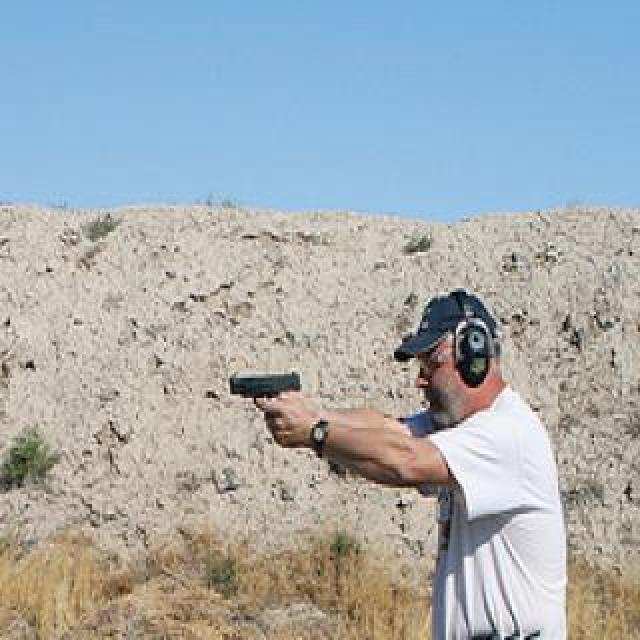Guns: (219, 353, 310, 431)
